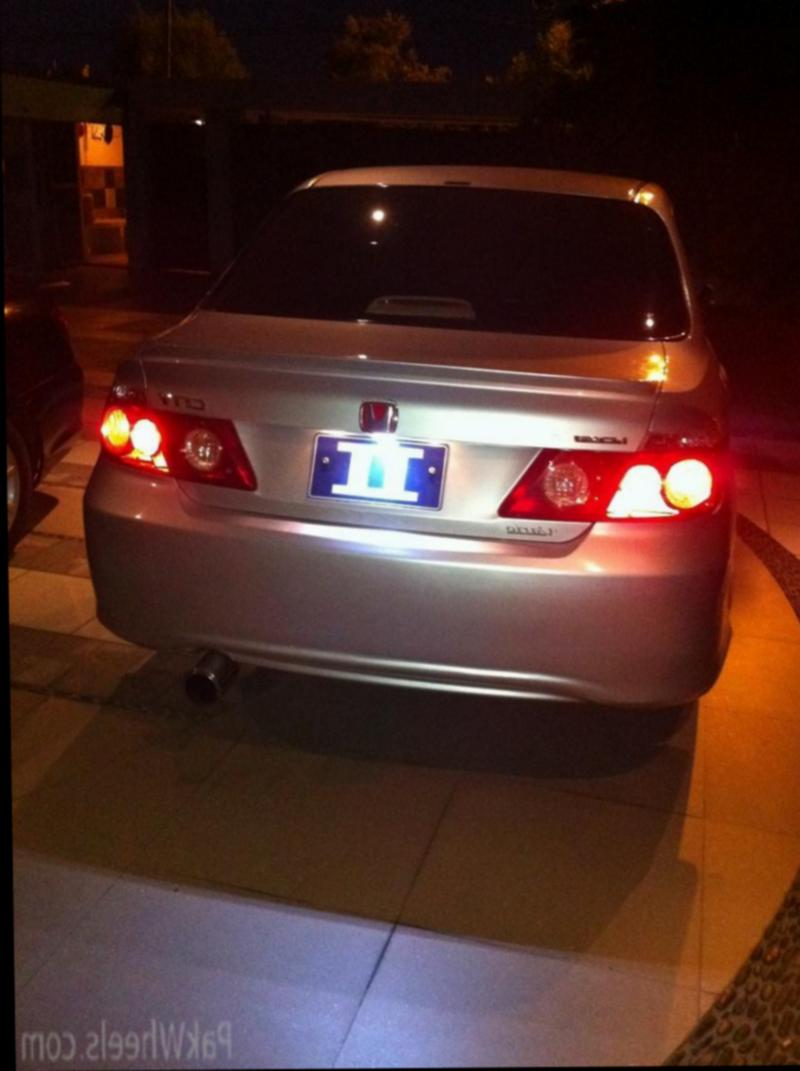License_Plate: (297, 430, 457, 516)
